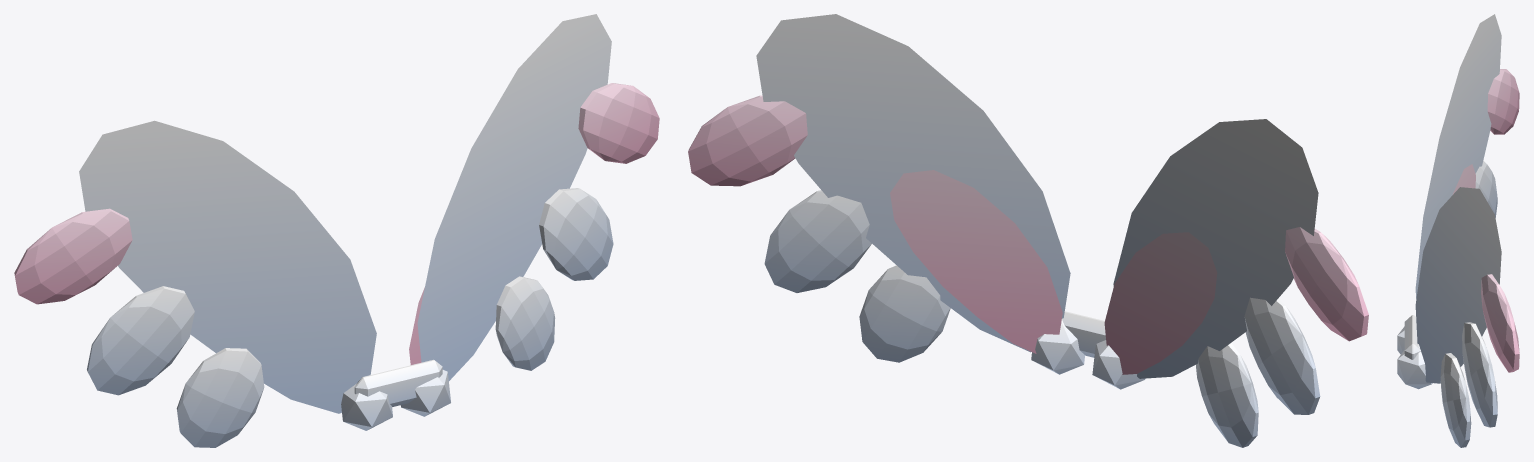
File: wings.glb
3 views of the same model, side by side, from view 1: azimuth 30°, elevation 25°; view 2: azimuth 150°, elevation 25°; view 3: azimuth 270°, elevation 25° (orthographic). The views are drawn at different scales.
Parts seen in each view (by area): view 1: wings_pair; view 2: wings_pair; view 3: wings_pair.
Part boxes in pixels (bbox=[...]): wings_pair: bbox=[14, 14, 659, 447]; wings_pair: bbox=[688, 14, 1368, 447]; wings_pair: bbox=[1397, 14, 1519, 447].
Bounding box in the file's own units: 2.22 × 1.08 × 0.4389.
1 material, 1 textured.
